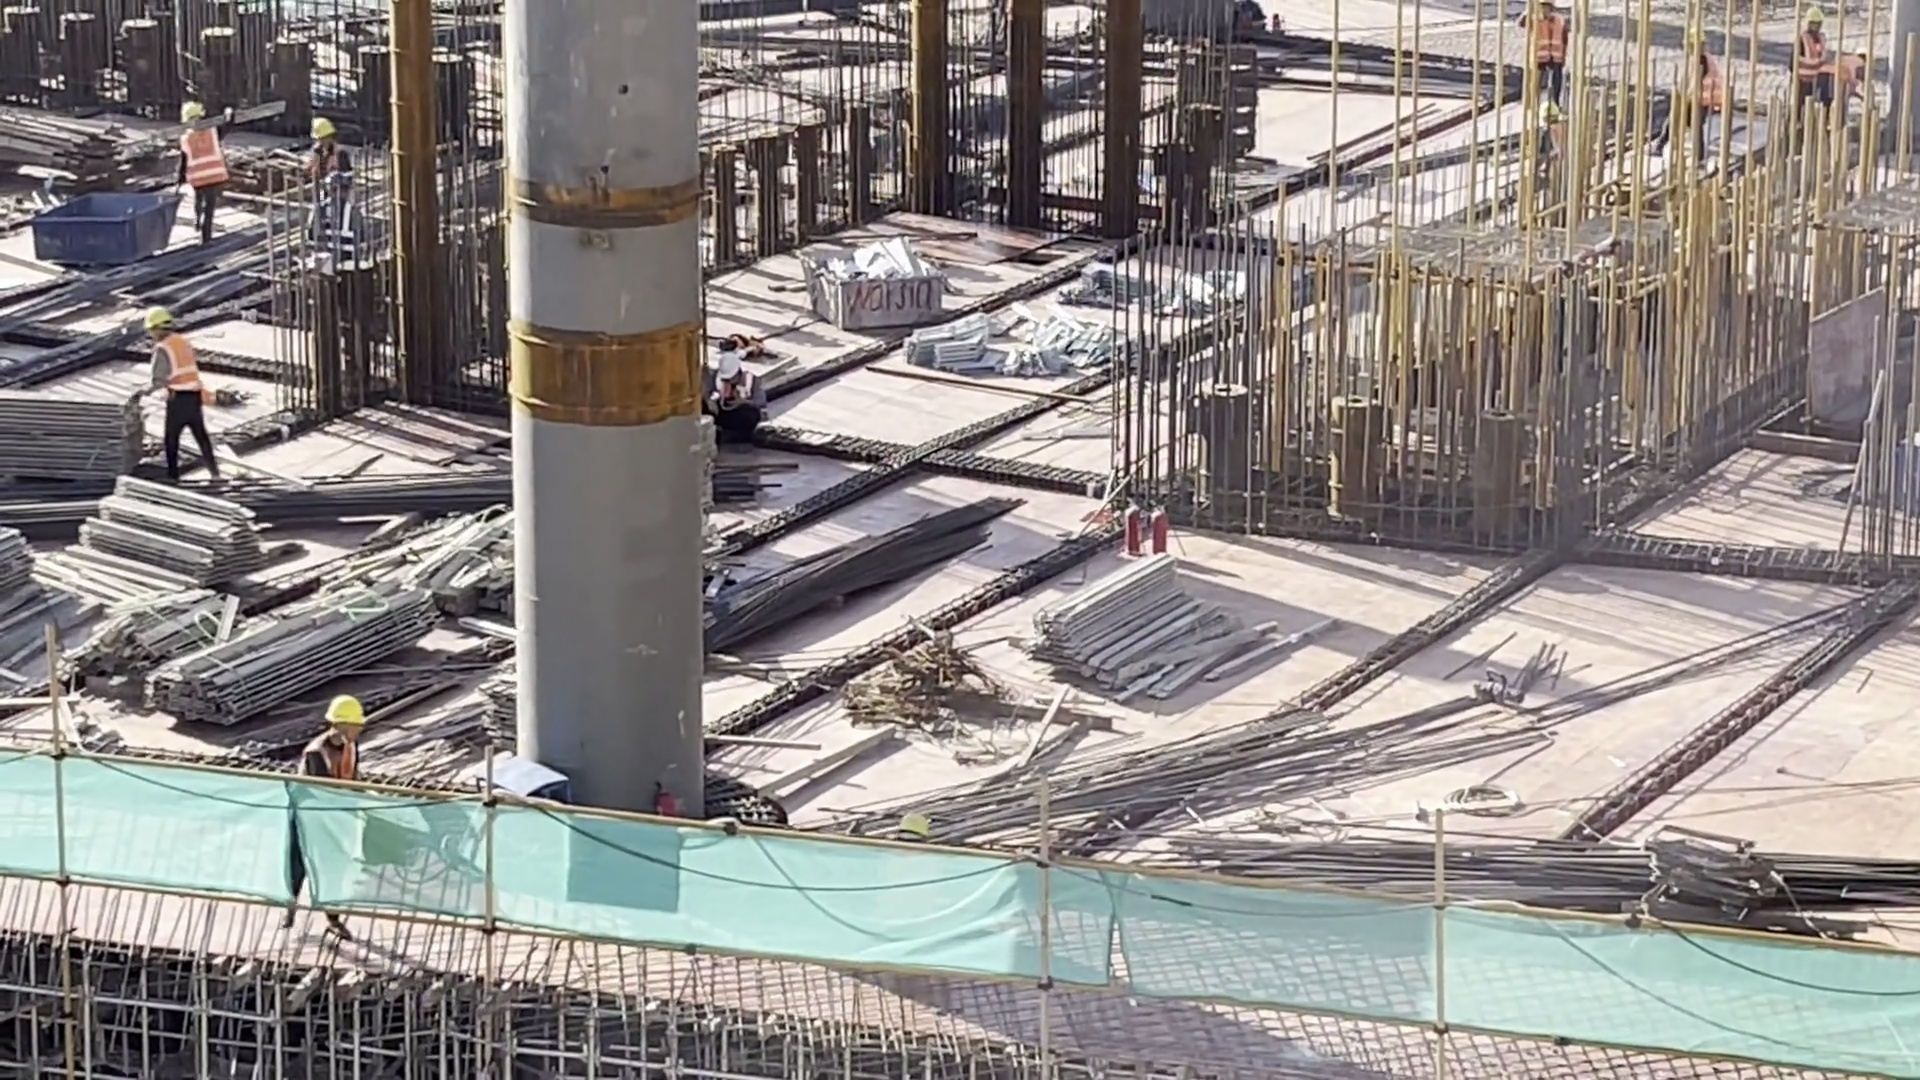helmet: (322, 676, 369, 749), (141, 285, 174, 324), (174, 100, 201, 123), (306, 122, 332, 143)
hopper: (804, 228, 959, 334), (38, 183, 191, 286)
person: (114, 304, 230, 500), (144, 98, 252, 231), (275, 691, 377, 812), (697, 345, 775, 453), (1523, 4, 1585, 109), (1791, 5, 1844, 109), (296, 108, 336, 179)
vest: (137, 319, 210, 405), (300, 732, 367, 793), (180, 123, 228, 186), (1530, 5, 1566, 69)
wood: (152, 567, 421, 715), (1022, 550, 1260, 700), (66, 469, 264, 594), (1, 364, 143, 490)
